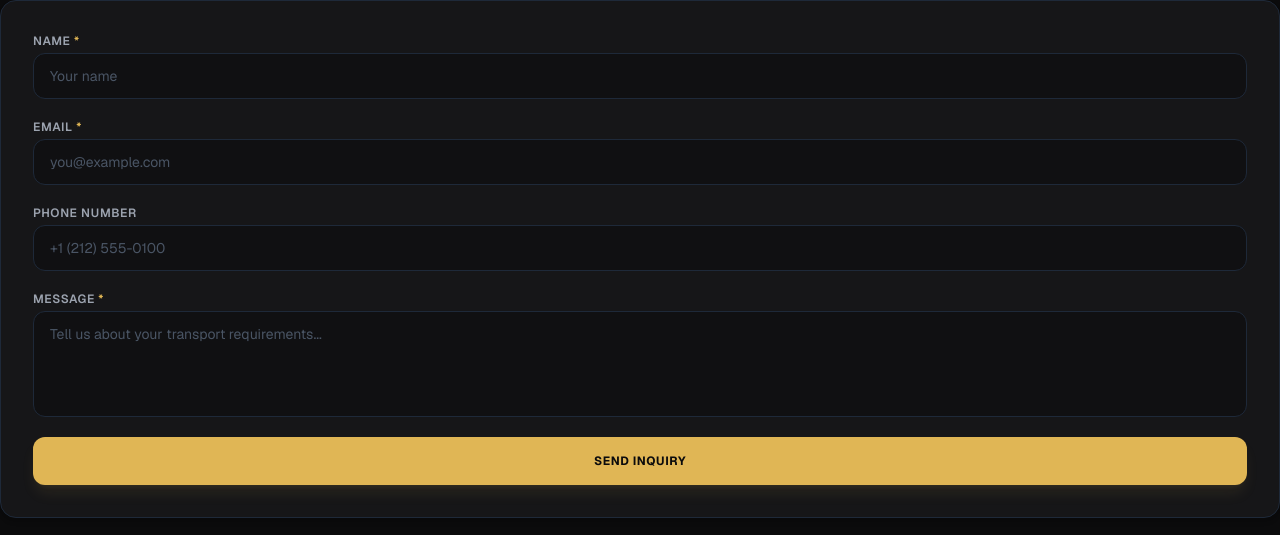
ContactForm Component › submits successfully with valid data and renders success feedback
# Populate inputs
Type "Felipe Vargas" into the field labelled "Name *". click: (640, 76)
box: x1=33 y1=53 x2=1247 y2=99
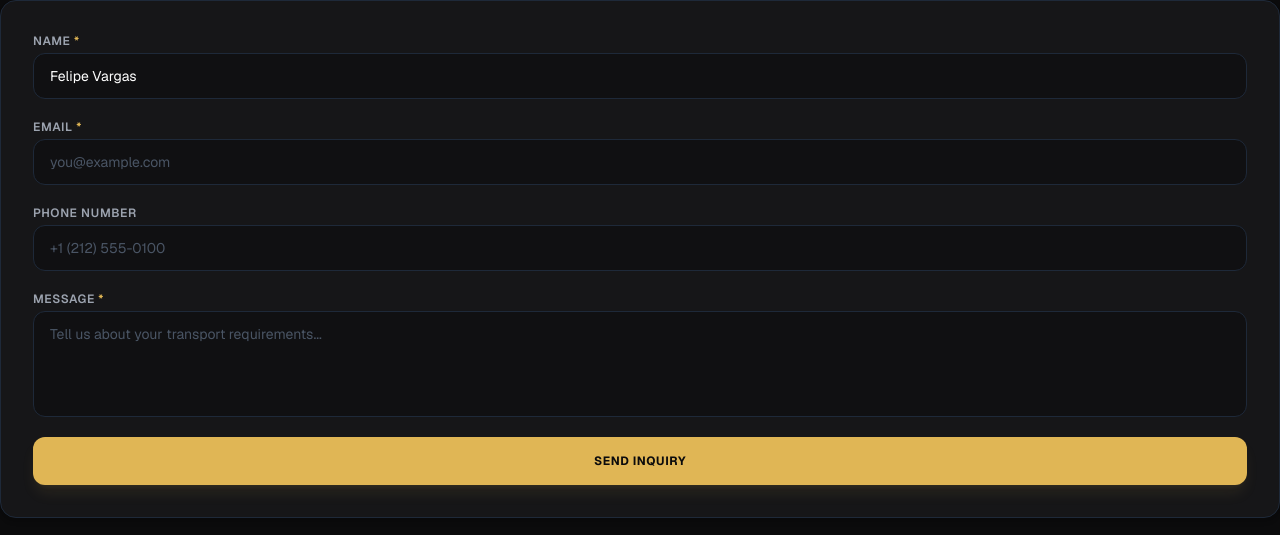
Type "felipe@example.com" into the field labelled "Email *". click: (640, 162)
box: x1=33 y1=139 x2=1247 y2=185
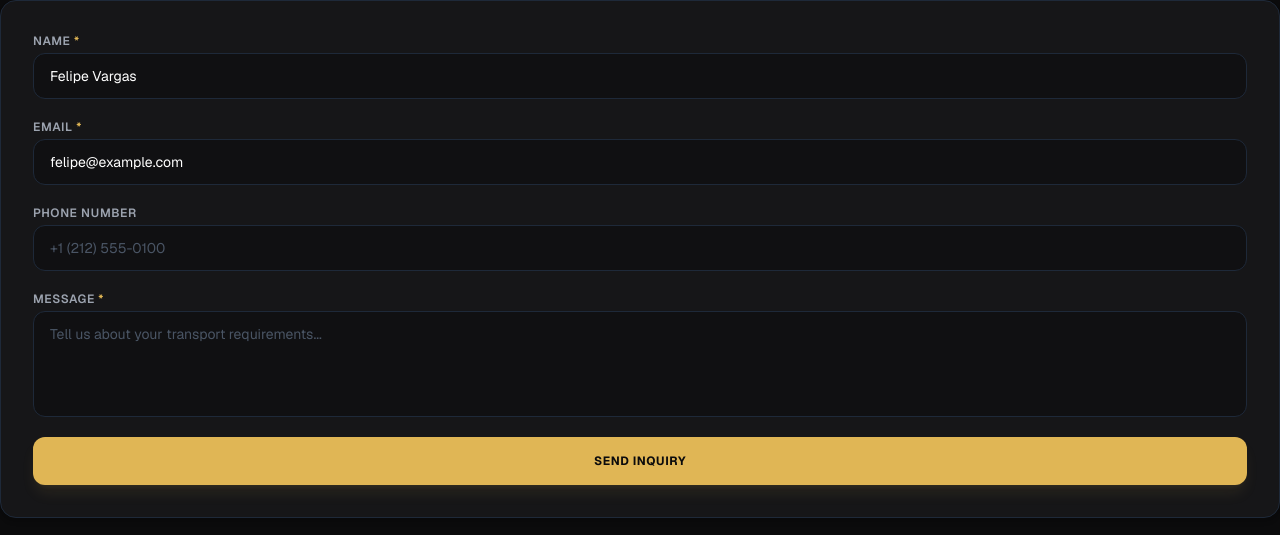
Type "Hello, looking for an airport transfer booking." into the text box labelled "Message *". click: (640, 364)
box: x1=33 y1=311 x2=1247 y2=417
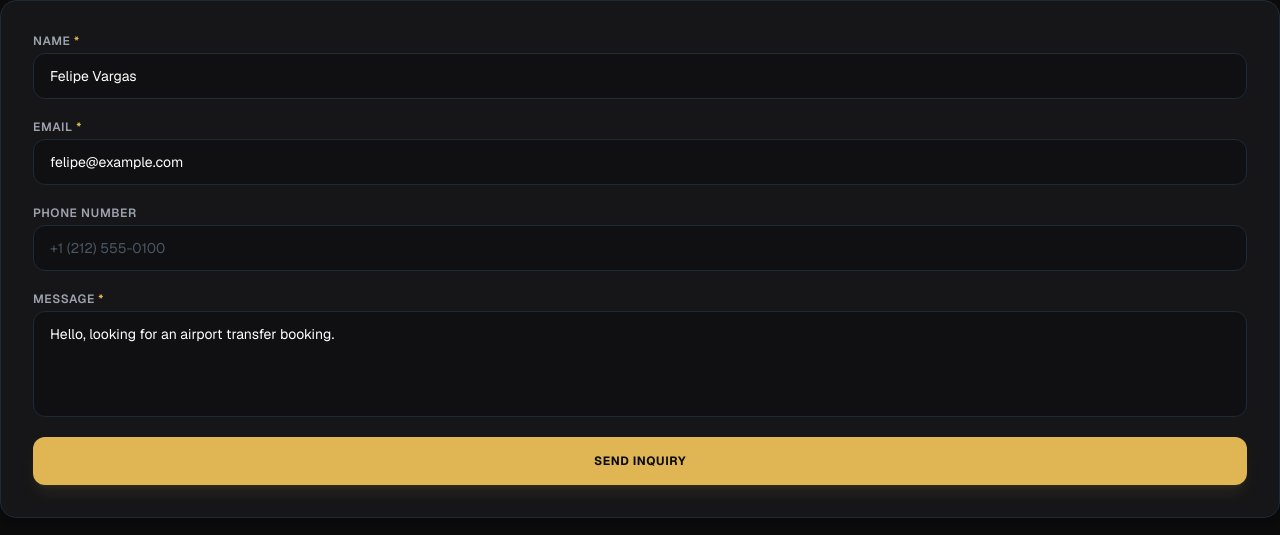
# Click submit
Click the button with test id "contact-submit". click: click(640, 461)
box: x1=33 y1=437 x2=1247 y2=485
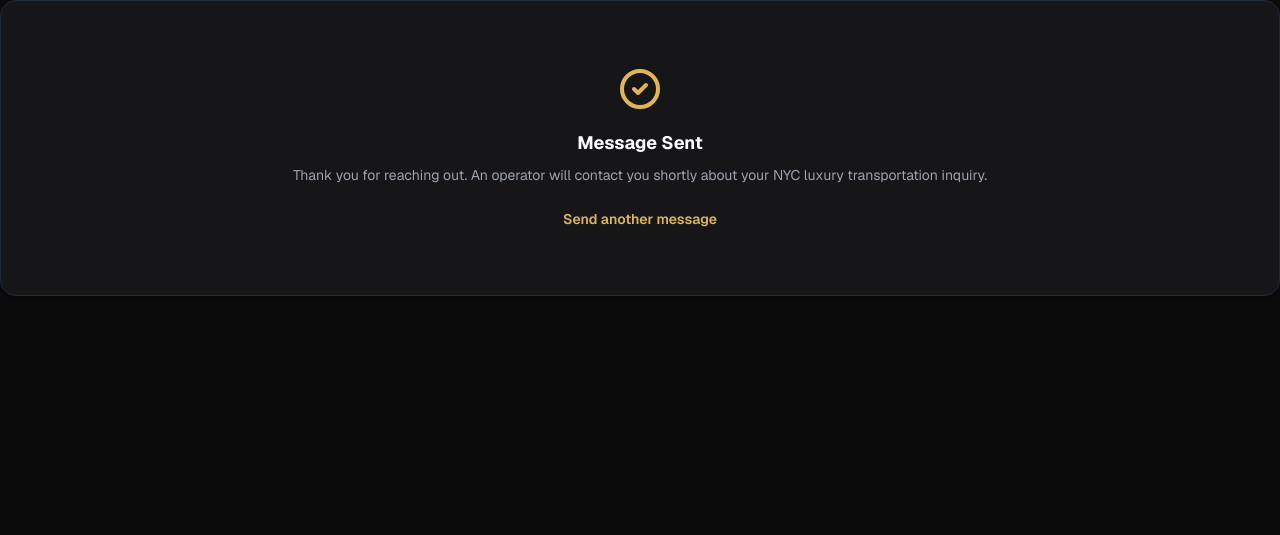
Now the message with test id "contact-success" is shown, box x1=293 y1=65 x2=987 y2=229
Now the heading "Message Sent" is shown, box x1=577 y1=131 x2=703 y2=154
